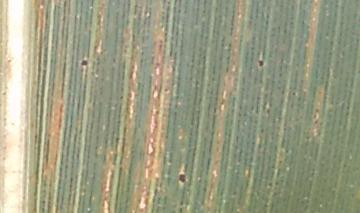tarspot: (176, 172, 188, 186), (78, 58, 91, 68), (256, 57, 266, 70)
